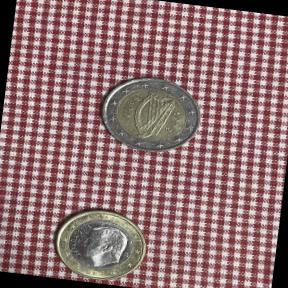coin: (92, 68, 210, 164), (46, 200, 155, 288)
